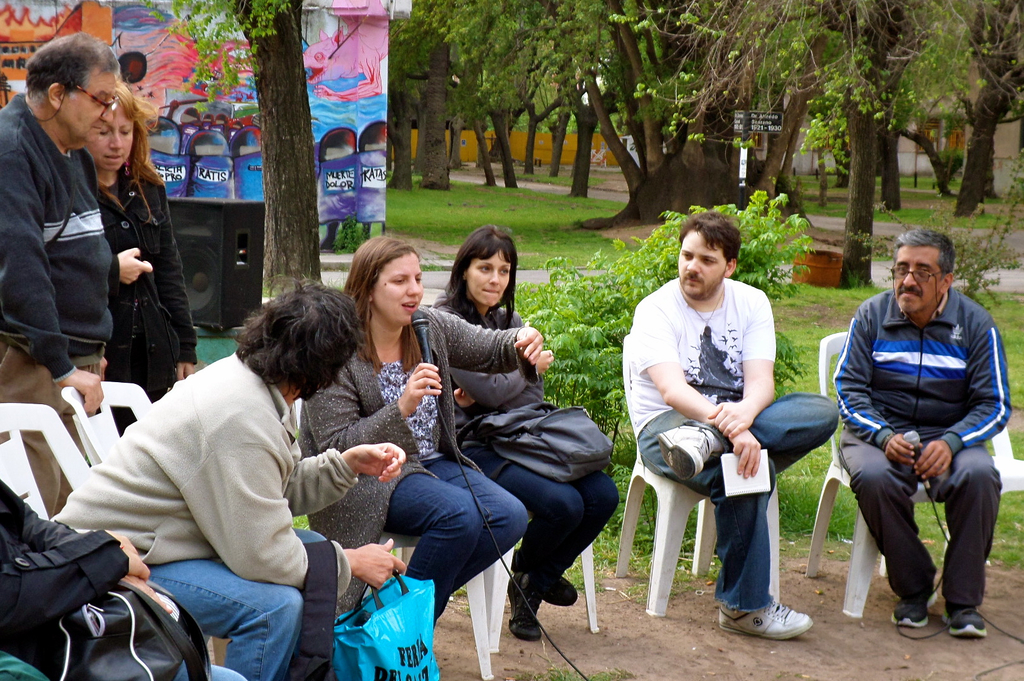Tree: (325, 0, 1023, 291), (147, 0, 301, 287)
